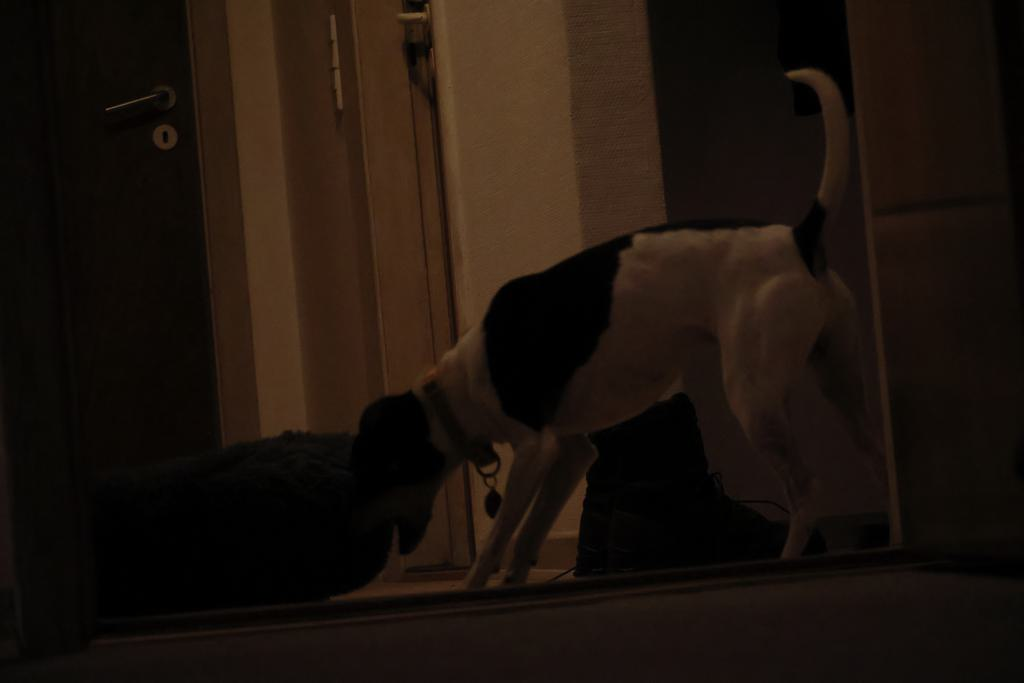Dog: (343, 62, 909, 600)
